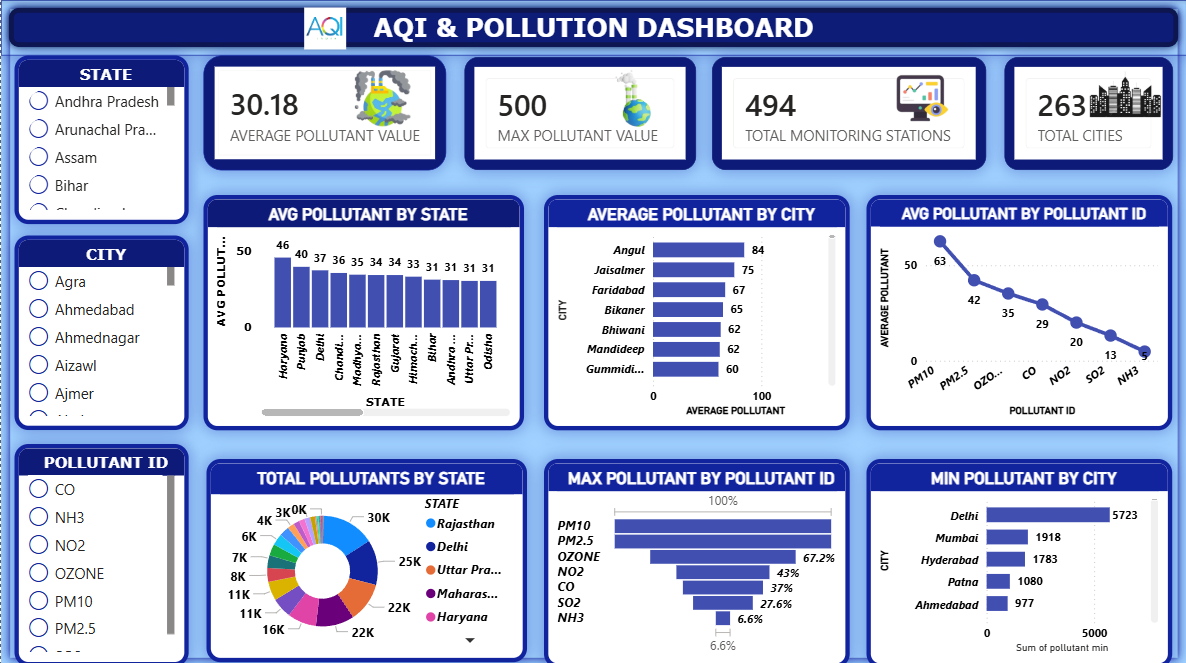

The page's visual inventory and layout, read from the dashboard file:
{"tool":"powerbi","page":{"name":"AQI & POLLUTION DASHBAORD","canvas":[1280,720],"ordinal":0},"visuals":[{"type":"shape","box":[0,0,1280,720],"z":0},{"type":"shape","box":[0,0,1280,60],"z":1000},{"type":"listSlicer","title":"STATE","fields":{"Values":["AQI_Data.state"]},"box":[14,60,188,182],"z":2000},{"type":"listSlicer","title":"CITY","fields":{"Values":["AQI_Data.city"]},"box":[14,254,188,210],"z":3000},{"type":"listSlicer","title":"POLLUTANT ID","fields":{"Values":["AQI_Data.pollutant id"]},"box":[14,480,188,240],"z":4000},{"type":"cardVisual","title":"AVERAGE POLLUTANT VALUE","fields":{"Data":["AQI_Data.Avg Pollutant"]},"box":[218,60,262,124],"z":5000},{"type":"cardVisual","fields":{"Data":["AQI_Data.Max Pollutant"]},"box":[500,62,250,122],"z":6000},{"type":"cardVisual","fields":{"Data":["AQI_Data.Total Stations"]},"box":[768,62,296,122],"z":7000},{"type":"cardVisual","fields":{"Data":["AQI_Data.Total Cities"]},"box":[1084,62,182,122],"z":8000},{"type":"clusteredColumnChart","title":"AVG POLLUTANT BY STATE","fields":{"Category":["AQI_Data.state"],"Y":["AQI_Data.Avg Pollutant"]},"box":[218,210,346,254],"z":9000},{"type":"clusteredBarChart","title":"AVERAGE POLLUTANT BY CITY","fields":{"Category":["AQI_Data.city"],"Y":["AQI_Data.Avg Pollutant"]},"box":[586.2,210.5,330.3,254.2],"z":10000},{"type":"lineChart","title":"AVG POLLUTANT BY POLLUTANT ID","fields":{"Category":["AQI_Data.pollutant id"],"Y":["AQI_Data.Avg Pollutant"]},"box":[934.3,210.5,330.3,254.2],"z":11000},{"type":"donutChart","title":"TOTAL POLLUTANTS BY STATE","fields":{"Category":["AQI_Data.state"],"Y":["Sum(AQI_Data.pollutant max)"]},"box":[222,496,346,219],"z":12000},{"type":"clusteredBarChart","title":"MIN POLLUTANT BY CITY","fields":{"Category":["AQI_Data.city"],"Y":["Sum(AQI_Data.pollutant min)"]},"box":[934.3,495.5,330.3,225.1],"z":13000},{"type":"funnel","title":"MAX POLLUTANT BY POLLUTANT ID","fields":{"Category":["AQI_Data.pollutant id"],"Y":["AQI_Data.Max Pollutant"]},"box":[586.2,495.5,330.3,225.1],"z":14000},{"type":"image","box":[275.3,8.1,149,45.3],"z":14001},{"type":"image","box":[375.7,72.9,72.9,66.4],"z":14002},{"type":"image","box":[639.6,72.9,87.4,69.6],"z":14003},{"type":"image","box":[948.9,77.7,90.7,56.7],"z":14004},{"type":"image","box":[1162.6,66.4,102,82.6],"z":14005}]}

Visuals, with their boxes in screenshot pixels (x1, y1, x2, y2), scaled from the page's 1280x720 canvas onto the 1186x663 screenshot:
shape: bbox(0, 0, 1185, 662)
shape: bbox(0, 0, 1185, 55)
"STATE" listSlicer: bbox(13, 55, 187, 223)
"CITY" listSlicer: bbox(13, 234, 187, 427)
"POLLUTANT ID" listSlicer: bbox(13, 442, 187, 662)
"AVERAGE POLLUTANT VALUE" cardVisual: bbox(202, 55, 445, 169)
cardVisual - AQI_Data.Max Pollutant: bbox(463, 57, 695, 169)
cardVisual - AQI_Data.Total Stations: bbox(712, 57, 986, 169)
cardVisual - AQI_Data.Total Cities: bbox(1004, 57, 1173, 169)
"AVG POLLUTANT BY STATE" clusteredColumnChart: bbox(202, 193, 523, 427)
"AVERAGE POLLUTANT BY CITY" clusteredBarChart: bbox(543, 194, 849, 428)
"AVG POLLUTANT BY POLLUTANT ID" lineChart: bbox(866, 194, 1172, 428)
"TOTAL POLLUTANTS BY STATE" donutChart: bbox(206, 457, 526, 658)
"MIN POLLUTANT BY CITY" clusteredBarChart: bbox(866, 456, 1172, 662)
"MAX POLLUTANT BY POLLUTANT ID" funnel: bbox(543, 456, 849, 662)
image: bbox(255, 7, 393, 49)
image: bbox(348, 67, 416, 128)
image: bbox(593, 67, 674, 131)
image: bbox(879, 72, 963, 124)
image: bbox(1077, 61, 1172, 137)
